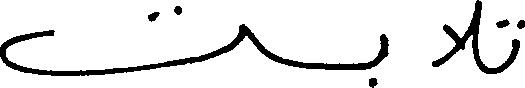X: (0, 1, 245, 80), (434, 0, 480, 74), (507, 15, 524, 72), (375, 29, 388, 87)
